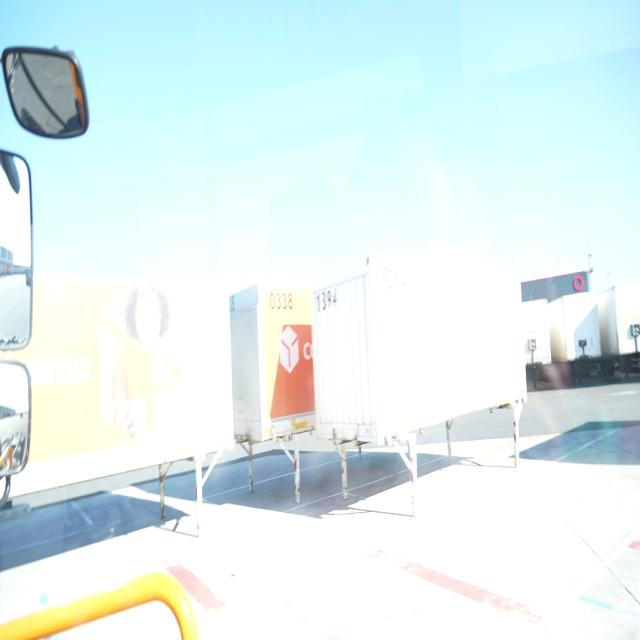Code: (266, 284, 298, 314), (312, 287, 344, 313)
